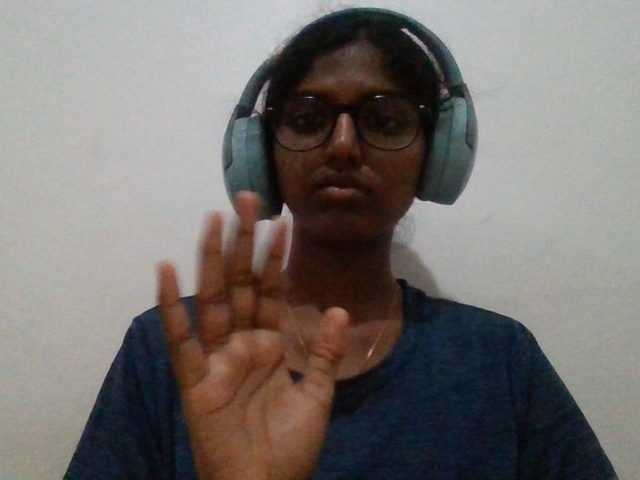Bye: (89, 186, 391, 480)
